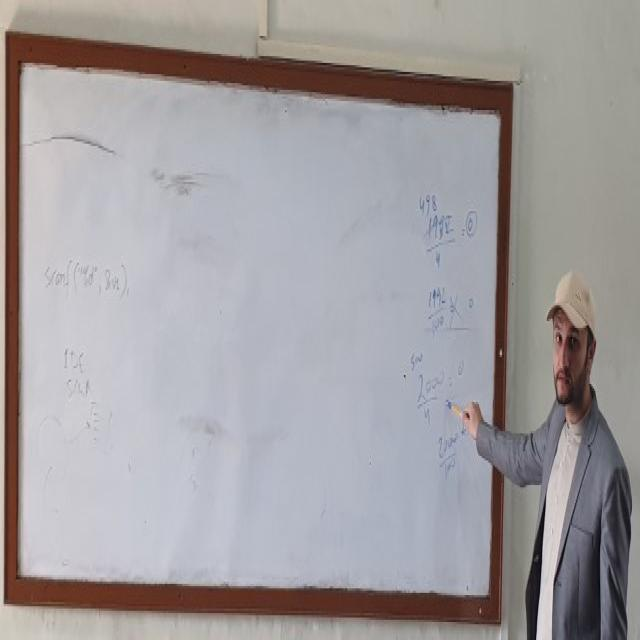Instructor: (524, 246, 632, 640)
White-board: (6, 51, 508, 611)
